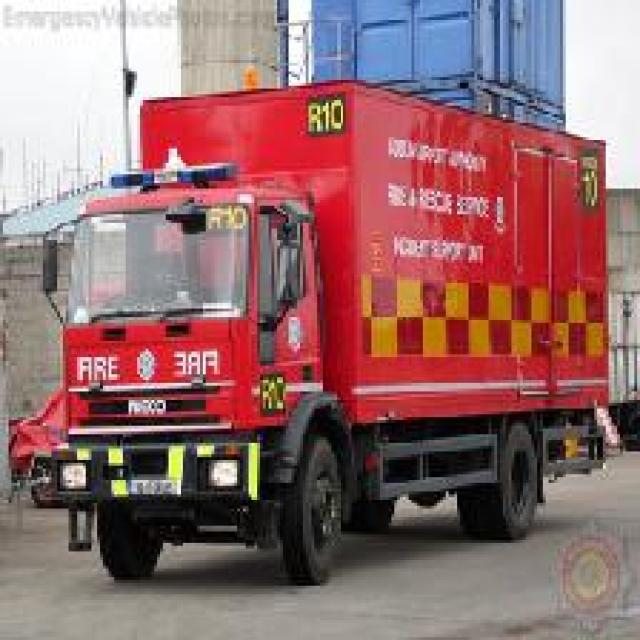Fire-truck: (40, 71, 617, 586)
